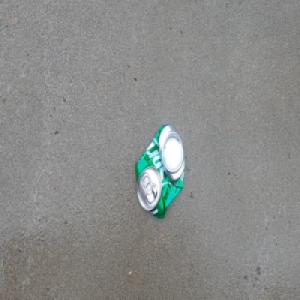SodaCan: (134, 121, 186, 220)
